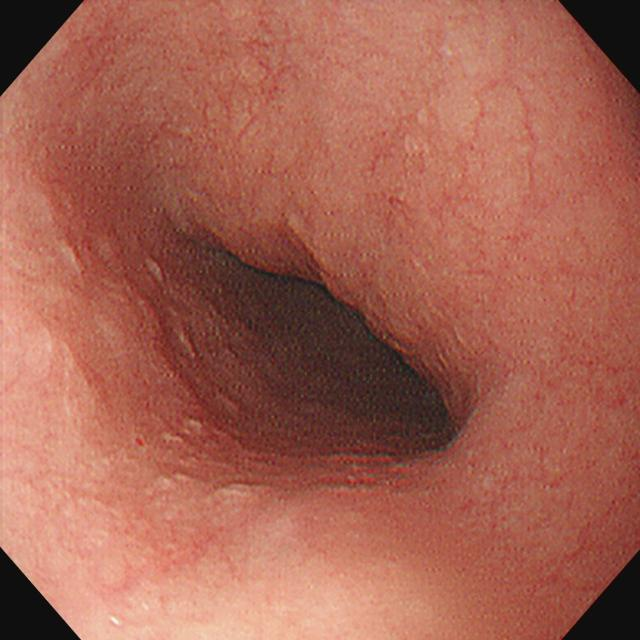E: (254, 273, 459, 460)
